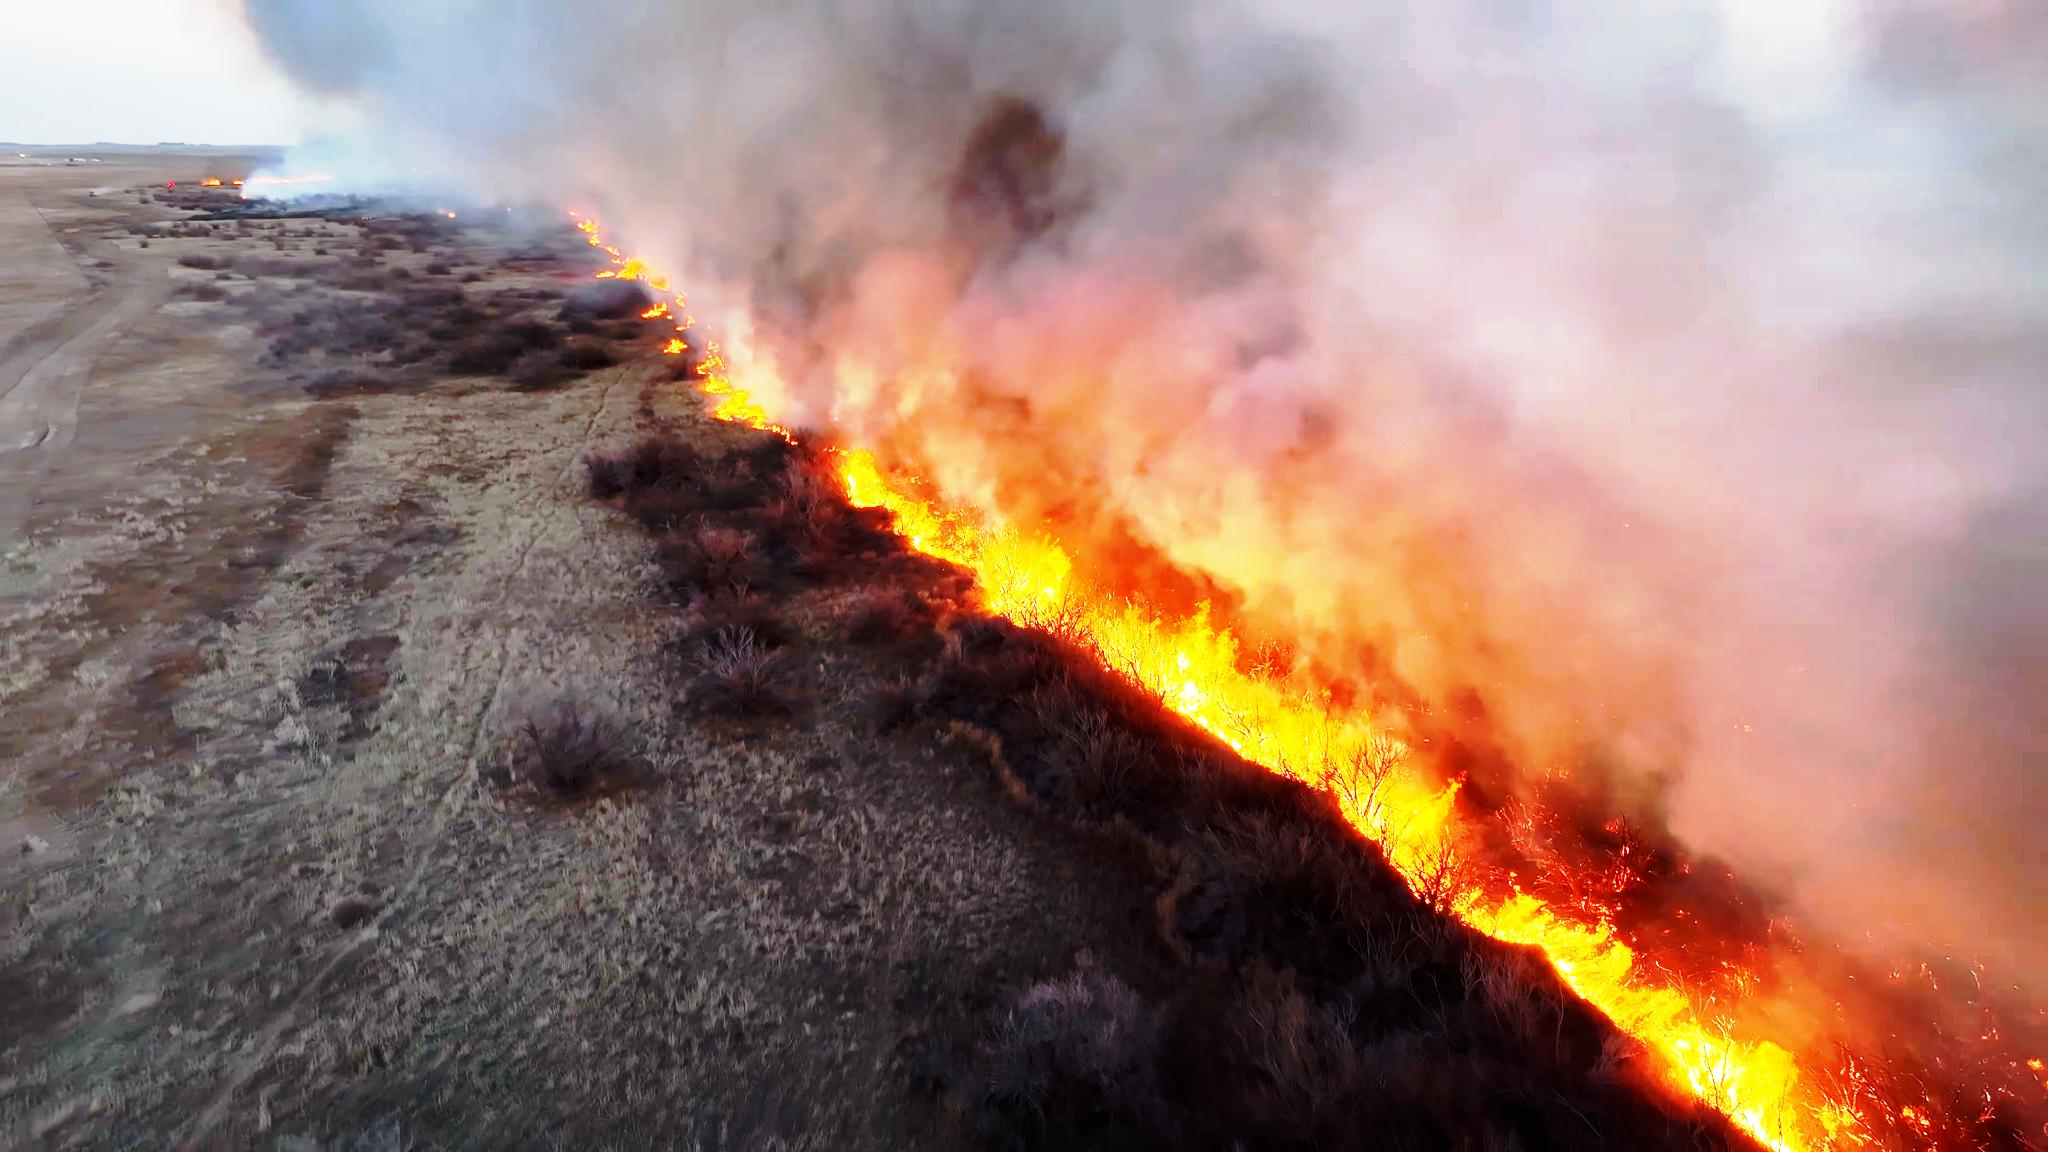fire: (1137, 592, 1348, 789), (1640, 973, 1809, 1148), (1473, 862, 1618, 1000), (809, 442, 906, 518)
smoke: (782, 8, 2014, 354), (1508, 32, 2048, 820), (1044, 184, 1526, 574)
